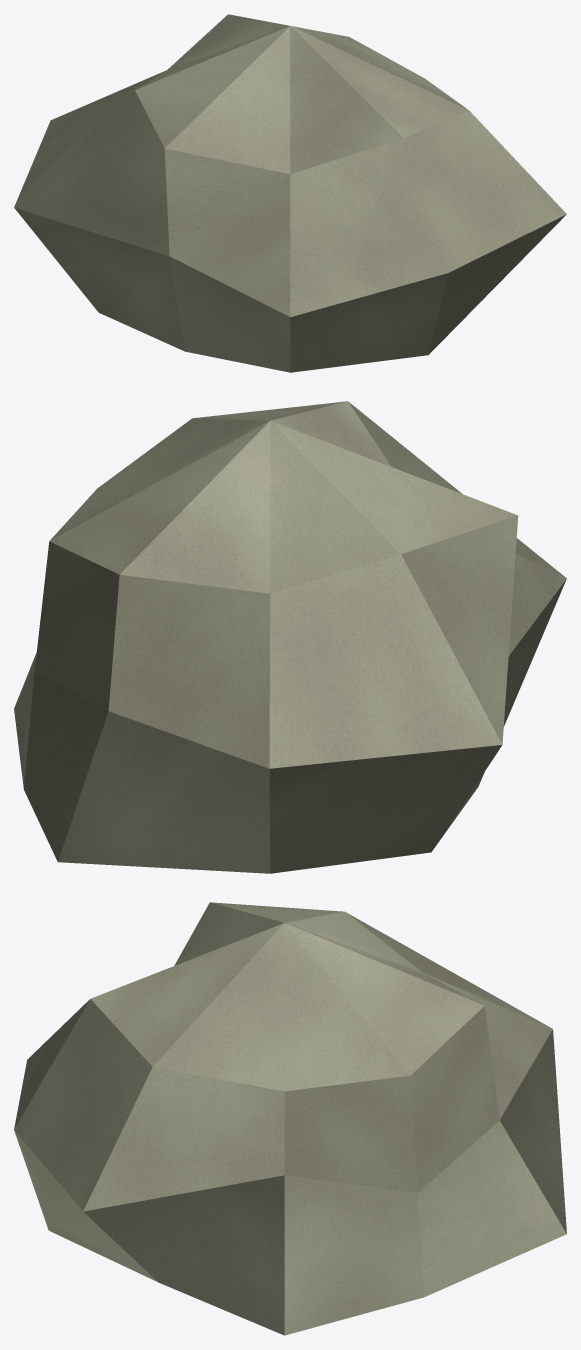
The model's file is rock_v1.glb.
3 views of the same model, one above another, from view 1: azimuth 30°, elevation 25°; view 2: azimuth 150°, elevation 25°; view 3: azimuth 270°, elevation 25° (orthographic). The views are drawn at different scales.
Parts seen in each view (by area): view 1: Variant_rock_1; view 2: Variant_rock_1; view 3: Variant_rock_1.
Part boxes in pixels (bbox=[...]): Variant_rock_1: bbox=[14, 14, 566, 372]; Variant_rock_1: bbox=[14, 401, 566, 873]; Variant_rock_1: bbox=[14, 902, 566, 1335].
Size of the model in its own units: 0.9855 by 0.6 by 0.9885.
1 material, 1 textured.
